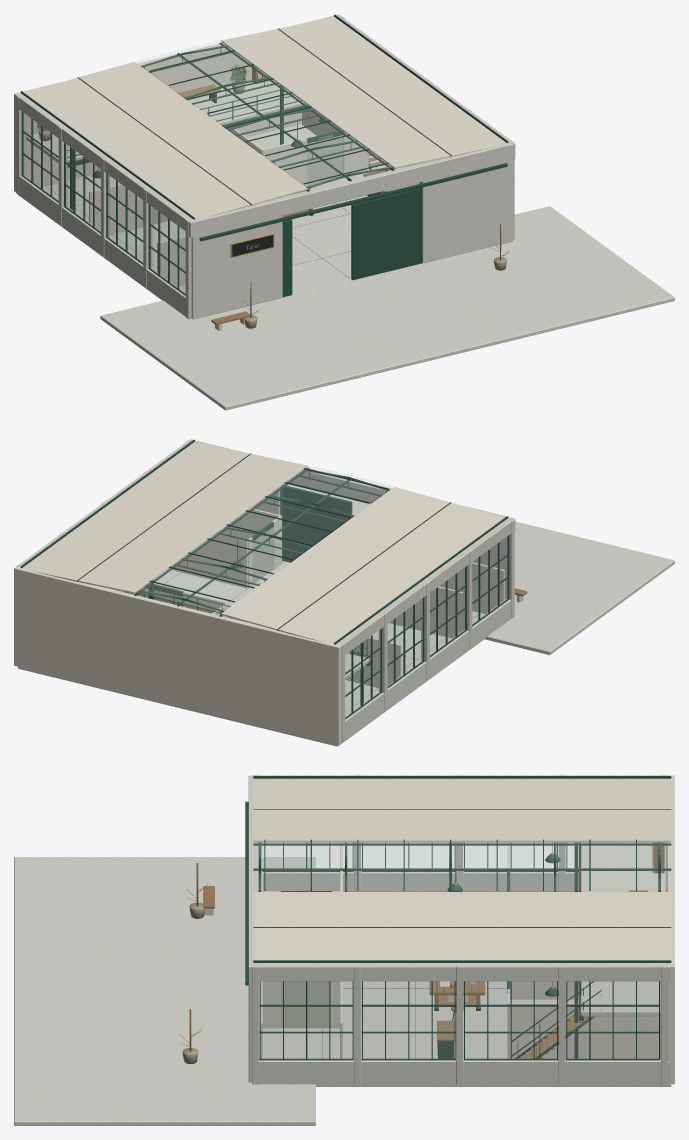
File: workshop-shell-v3.glb
3 views of the same model, one above another, from view 1: azimuth 30°, elevation 25°; view 2: azimuth 150°, elevation 25°; view 3: azimuth 270°, elevation 25° (orthographic). The views are drawn at different scales.
Visible parts, largest first — view 1: shell__concrete, shell__plaster, shell__glass, shell__greensteel, roomgate__lorigine, shell__oak; view 2: shell__plaster, shell__concrete, shell__glass, shell__greensteel, roomgate__drokex; view 3: shell__concrete, shell__plaster, shell__glass, shell__greensteel, shell__oak, roomgate__drokex.
Boxes of the visible parts, bbox=[...] form: shell__concrete: bbox=[15, 16, 674, 410]; shell__plaster: bbox=[14, 14, 505, 286]; shell__glass: bbox=[23, 40, 392, 293]; shell__greensteel: bbox=[20, 14, 508, 297]; roomgate__lorigine: bbox=[307, 135, 343, 186]; shell__oak: bbox=[44, 63, 509, 324]; shell__plaster: bbox=[14, 443, 505, 744]; shell__concrete: bbox=[16, 439, 674, 746]; shell__glass: bbox=[136, 466, 507, 716]; shell__greensteel: bbox=[20, 439, 509, 719]; roomgate__drokex: bbox=[252, 527, 272, 583]; shell__concrete: bbox=[14, 775, 671, 1125]; shell__plaster: bbox=[253, 775, 674, 1084]; shell__glass: bbox=[253, 841, 670, 1058]; shell__greensteel: bbox=[245, 776, 671, 1060]; shell__oak: bbox=[179, 842, 664, 1058]; roomgate__drokex: bbox=[281, 981, 331, 1028].
Size of the model in its own units: 27 by 6.13 by 28.46.
16 materials, 3 textured.
